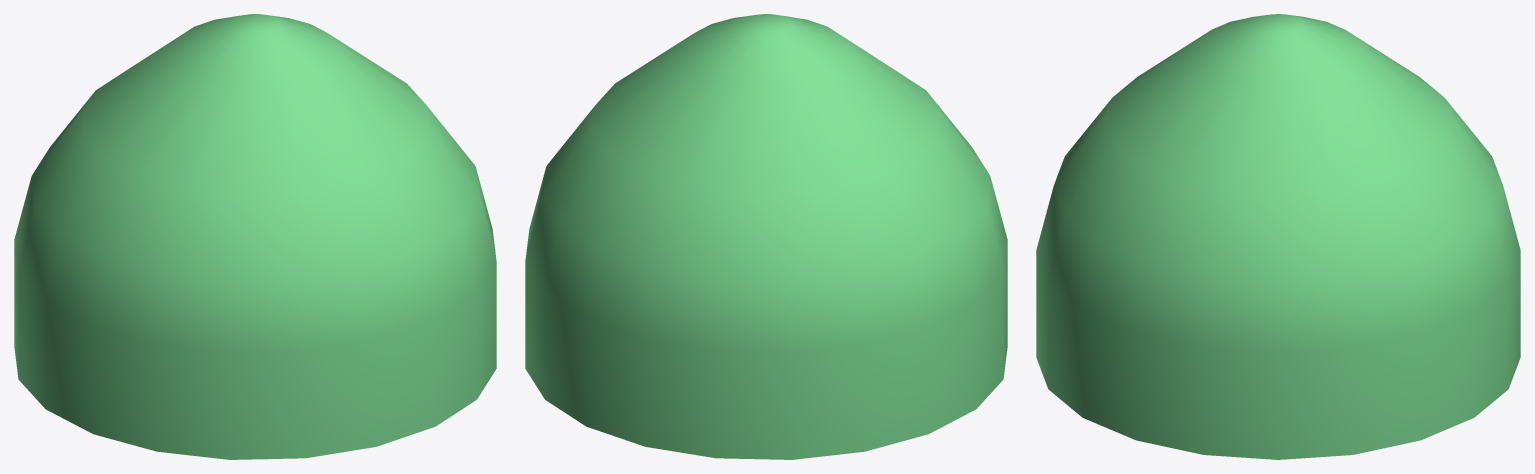
The model's file is hillFBX.fbx.
3 renders of one model, left to right at view 1: azimuth 30°, elevation 25°; view 2: azimuth 150°, elevation 25°; view 3: azimuth 270°, elevation 25°, orthographic.
Parts seen in each view (by area): view 1: pCylinder2; view 2: pCylinder2; view 3: pCylinder2.
Boxes of the visible parts, <box> form: pCylinder2: <box>14,14,496,459</box>; pCylinder2: <box>525,14,1007,459</box>; pCylinder2: <box>1036,14,1520,459</box>.
Size of the model in its own units: 8.66 by 6.57 by 8.66.
